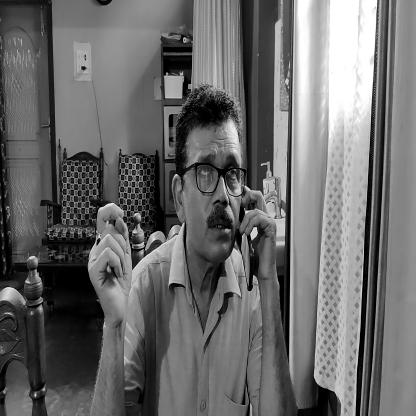Distracted: (178, 100, 243, 262)
